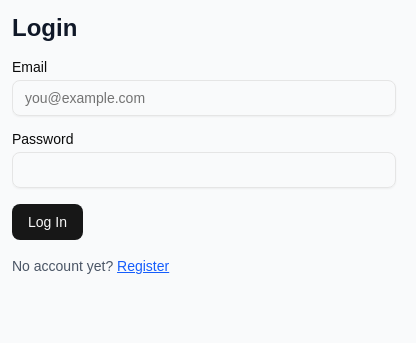
Test case: LoginPage › shows both schema messages when the form is sent empty
Click the button "Log In".
click(47, 222)  # box [12,204,83,240]
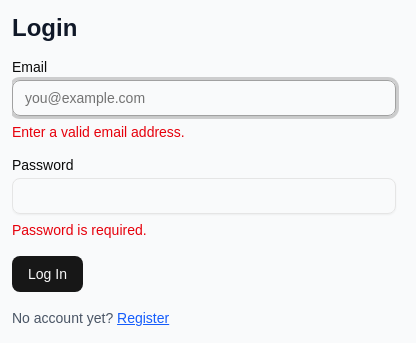
Expected: the text "Enter a valid email address." is shown, [12,124,185,140]
Expected: the text "Password is required." is shown, [12,222,147,238]
